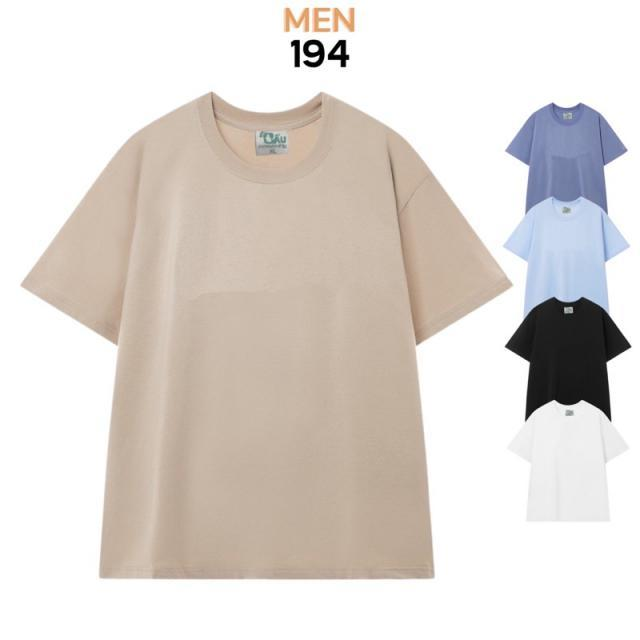Shirt: (21, 88, 512, 582)
